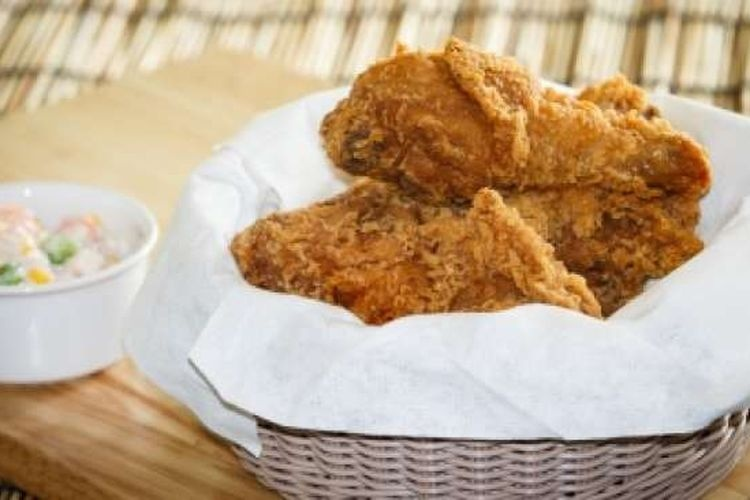ayam_goreng: (299, 33, 712, 208)
